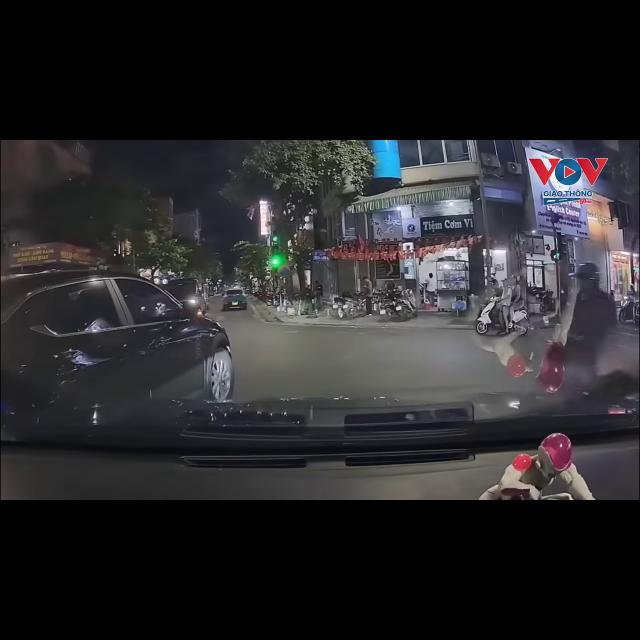car: (1, 271, 233, 408), (163, 278, 208, 314), (222, 288, 247, 310)
motorcycle: (380, 290, 417, 321), (475, 297, 500, 334), (333, 293, 363, 318), (396, 289, 418, 319), (531, 288, 555, 313), (618, 294, 637, 323)
